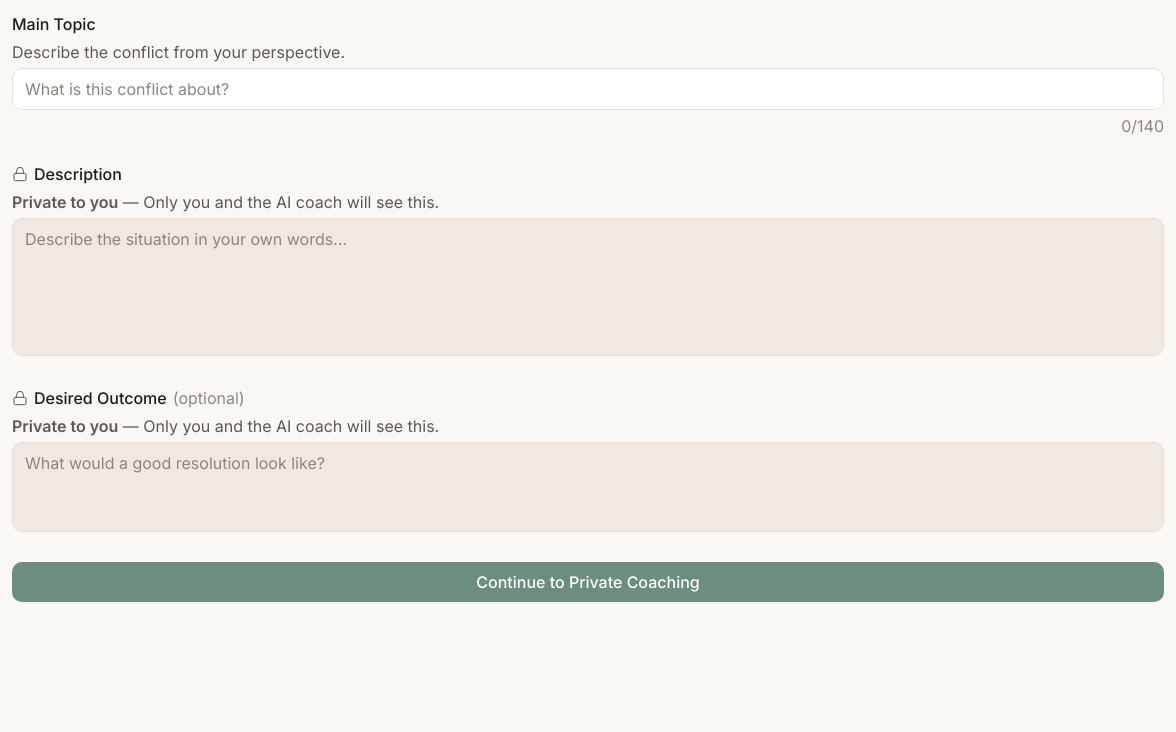
AC6: Form validation — mainTopic required › shows inline error when submitting with empty mainTopic
The image size is (1176, 732).
Click the button "Continue to Private Coaching". click: (588, 582)
box: [12, 562, 1164, 602]
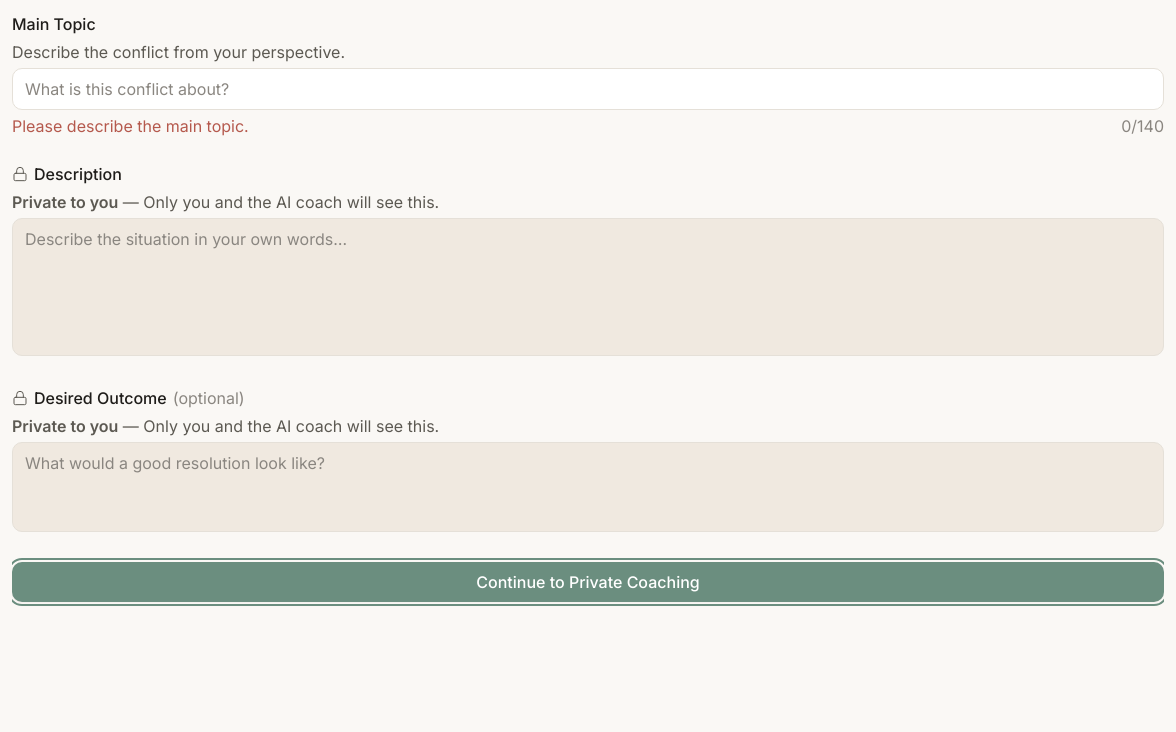
Now the message "Please describe the main topic." is shown, box [12, 114, 249, 138]
